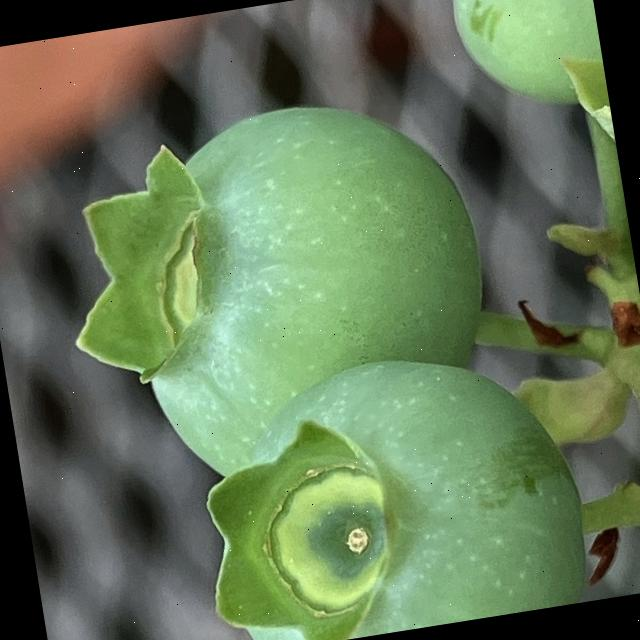Blueberries: (39, 80, 512, 502), (175, 334, 596, 640), (446, 0, 609, 121)
